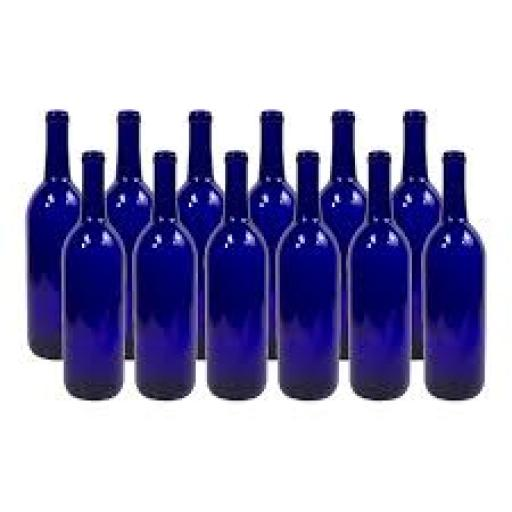red mug: (132, 150, 196, 398), (275, 150, 339, 396), (348, 150, 410, 398), (207, 150, 266, 398), (423, 150, 482, 398), (64, 152, 123, 398)
